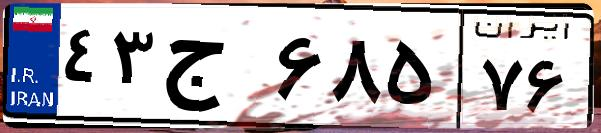3: (110, 28, 158, 98)
4: (57, 26, 110, 100)
5: (385, 28, 445, 110)
6: (270, 28, 330, 110), (525, 38, 570, 115)
7: (475, 38, 525, 113)
8: (330, 28, 385, 110)
ج: (158, 20, 270, 120)
